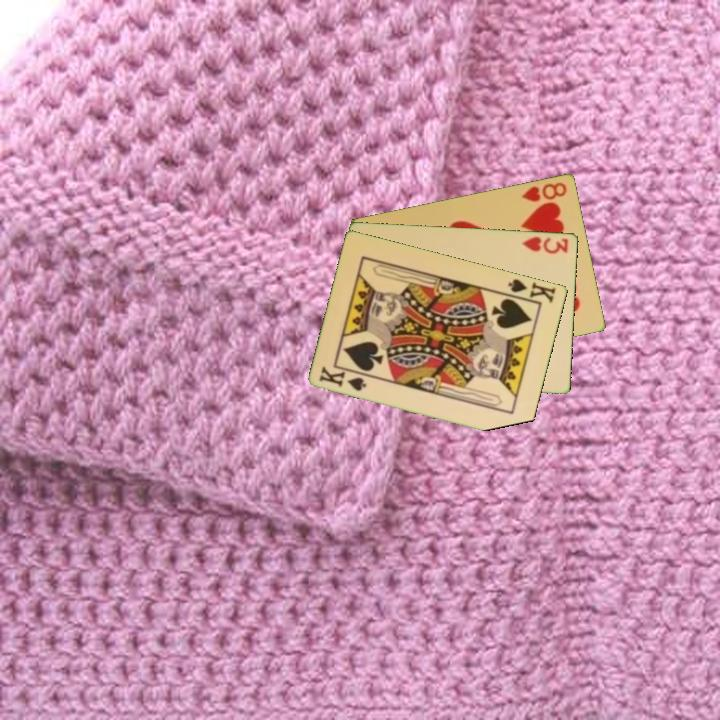3h: (519, 233, 571, 256)
8h: (518, 178, 570, 205)
Ks: (316, 362, 370, 394), (505, 275, 559, 306)
